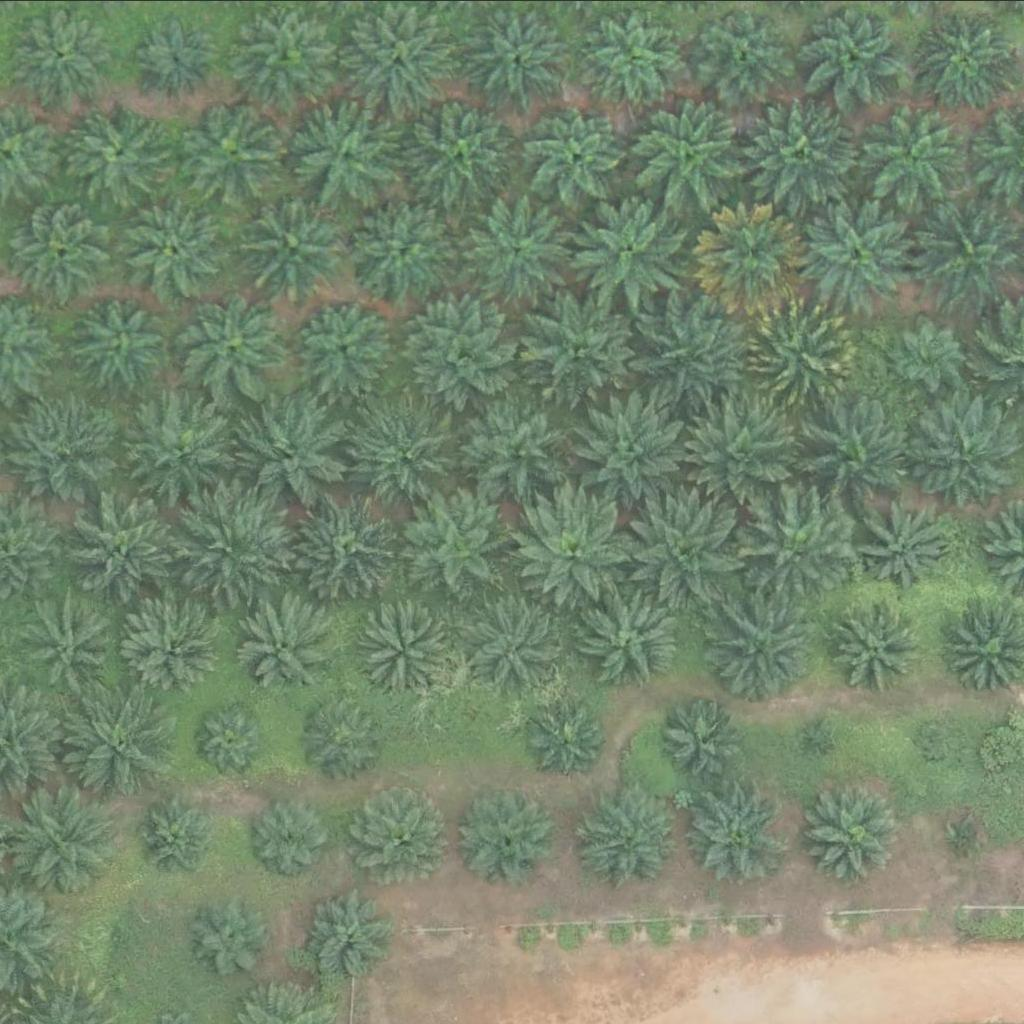Kelapa_Sawit: (53, 686, 167, 799), (704, 591, 818, 704), (3, 395, 116, 508), (4, 781, 117, 894), (175, 487, 288, 600), (292, 486, 405, 599), (123, 390, 236, 503), (237, 393, 350, 506), (348, 399, 461, 512), (463, 391, 576, 504), (403, 291, 516, 404), (517, 288, 630, 401), (635, 289, 748, 402), (290, 98, 403, 211), (863, 96, 976, 209), (696, 200, 809, 313), (745, 298, 858, 411), (797, 198, 910, 311), (68, 490, 182, 602), (632, 492, 746, 604), (802, 398, 916, 510), (905, 394, 1019, 506), (738, 489, 852, 601), (401, 492, 514, 604), (522, 493, 635, 605), (574, 390, 687, 502), (177, 287, 290, 399), (116, 192, 229, 304), (243, 185, 356, 297), (349, 192, 462, 304), (468, 192, 581, 304), (574, 195, 687, 307), (408, 92, 521, 204), (632, 91, 745, 203), (745, 98, 858, 210), (689, 401, 802, 513), (10, 1, 111, 101), (74, 102, 175, 202), (11, 198, 112, 298), (68, 295, 169, 395), (576, 791, 677, 891), (125, 599, 226, 699), (237, 593, 338, 693), (355, 598, 456, 698), (294, 293, 395, 393), (528, 103, 629, 203), (694, 4, 795, 104), (803, 6, 904, 106), (919, 8, 1020, 108), (687, 783, 788, 883), (795, 785, 896, 885), (20, 591, 120, 691), (350, 781, 450, 881), (457, 786, 557, 886), (469, 588, 569, 688), (582, 586, 682, 686), (178, 101, 278, 201), (238, 3, 338, 103), (302, 884, 390, 972), (187, 891, 275, 978), (137, 792, 225, 879), (246, 795, 334, 882), (301, 693, 389, 780), (592, 11, 680, 98), (861, 501, 949, 588), (828, 601, 916, 688), (657, 695, 745, 782), (529, 700, 605, 775), (140, 18, 216, 93), (889, 318, 965, 393), (193, 702, 268, 777), (88, 913, 138, 963), (920, 719, 958, 757), (805, 719, 830, 744), (955, 823, 980, 848)
